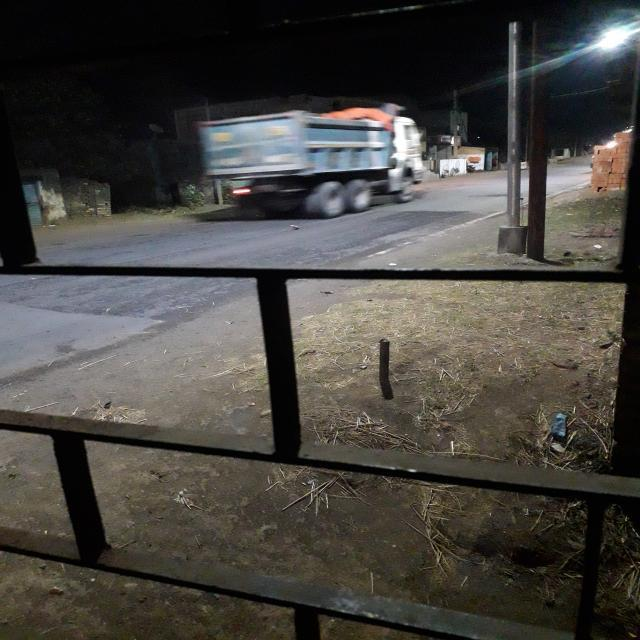truck_back: (193, 96, 429, 221)
